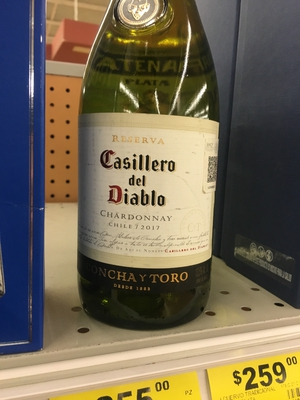casillero del diablo chardonnay: (71, 9, 225, 329)
